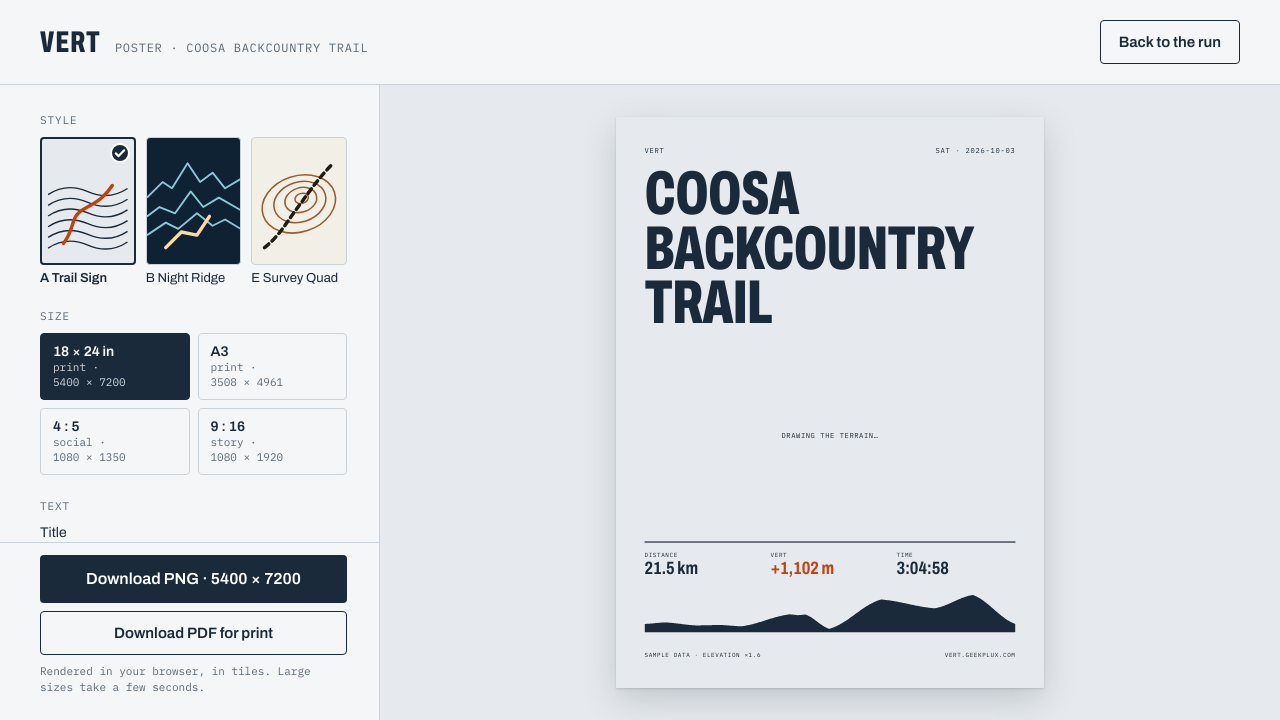
Scenario: Exporting overlay › treats an exporter that throws synchronously as a failed export
This screenshot has width=1280, height=720.
Click the button "Download PNG · 5400 × 7200".
click(194, 579)  # box 40,555 -> 347,603
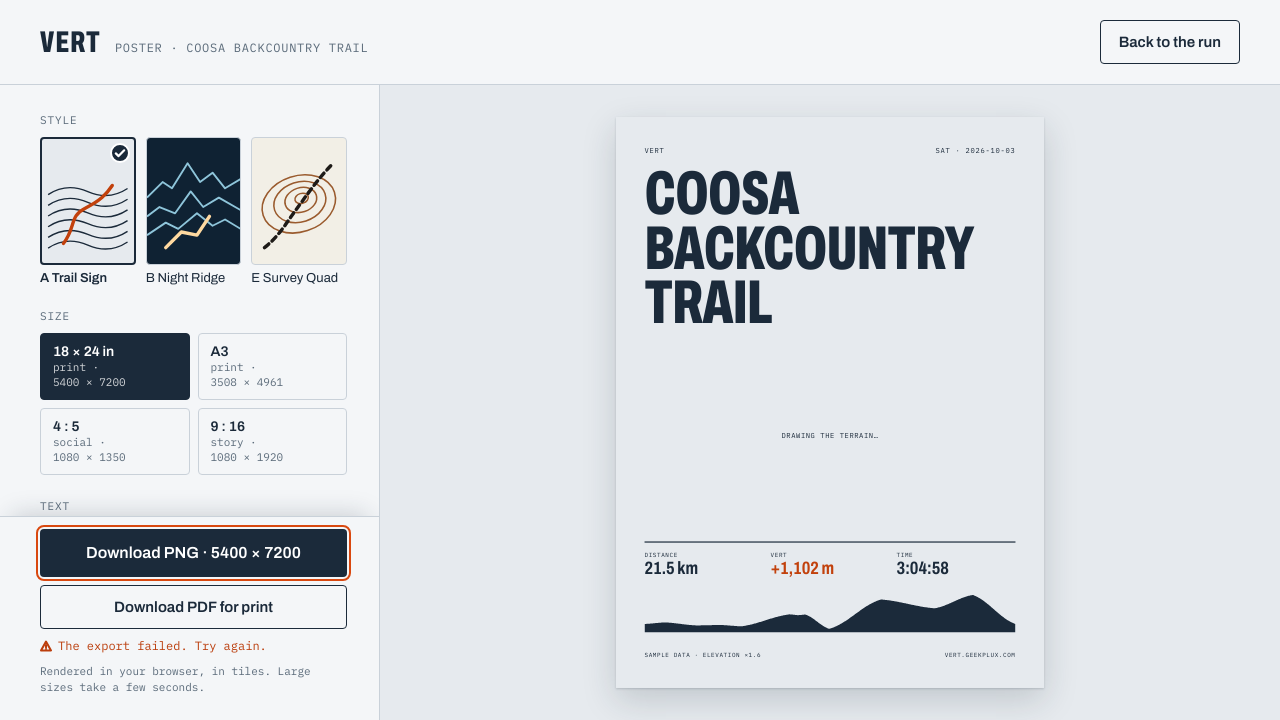
Result: the text "The export failed. Try again." is shown at 58,637 -> 267,655
